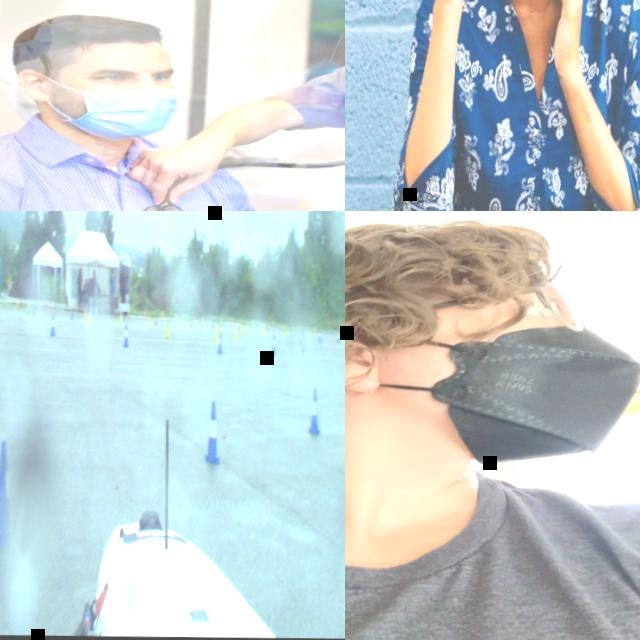Mask: (346, 327, 640, 466), (76, 84, 178, 143), (0, 20, 51, 66), (282, 58, 345, 95)
NO-Hardhat: (345, 214, 560, 309), (11, 11, 169, 67), (234, 0, 345, 42), (273, 138, 345, 158), (4, 0, 81, 10)
NO-Safety Vest: (345, 476, 640, 640), (435, 0, 618, 211)
Person: (345, 211, 640, 640), (384, 0, 640, 211), (0, 6, 252, 211), (143, 0, 345, 211), (235, 0, 345, 82), (0, 0, 67, 58)
Safety Cone: (0, 439, 15, 547), (202, 400, 221, 465), (306, 389, 321, 436), (122, 322, 129, 347), (269, 334, 276, 355), (49, 313, 55, 336), (216, 332, 222, 354), (299, 335, 305, 353), (25, 302, 30, 323), (164, 320, 169, 339), (231, 323, 236, 341), (86, 313, 91, 330), (260, 321, 265, 337), (317, 328, 322, 343), (250, 323, 255, 337), (213, 325, 217, 341), (243, 323, 247, 338), (31, 303, 35, 317), (118, 312, 122, 326), (36, 304, 40, 317), (69, 307, 73, 320), (82, 310, 86, 323), (217, 319, 221, 332), (282, 325, 286, 338), (187, 317, 191, 329), (264, 320, 268, 332), (335, 331, 339, 342), (146, 316, 150, 327), (153, 315, 157, 326), (15, 298, 19, 308), (179, 318, 182, 330), (210, 318, 213, 329), (340, 331, 343, 342), (342, 329, 345, 339), (142, 309, 145, 318), (200, 314, 203, 322), (173, 311, 176, 319), (160, 311, 163, 318)
